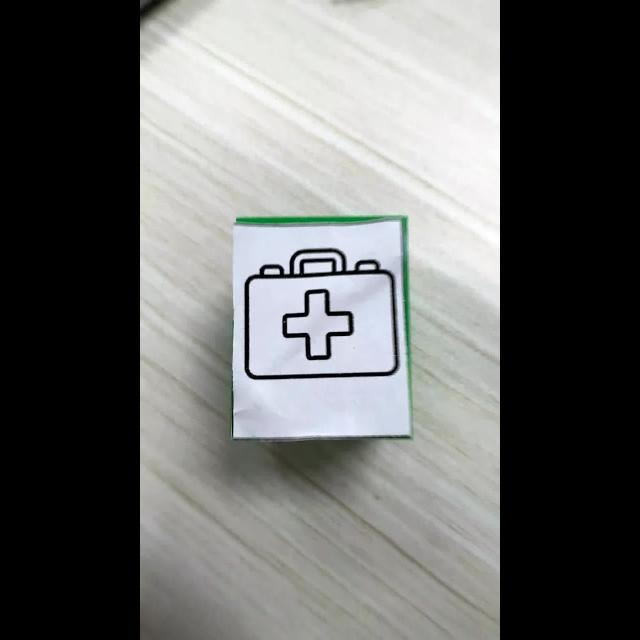Medkit: (244, 248, 399, 380)
